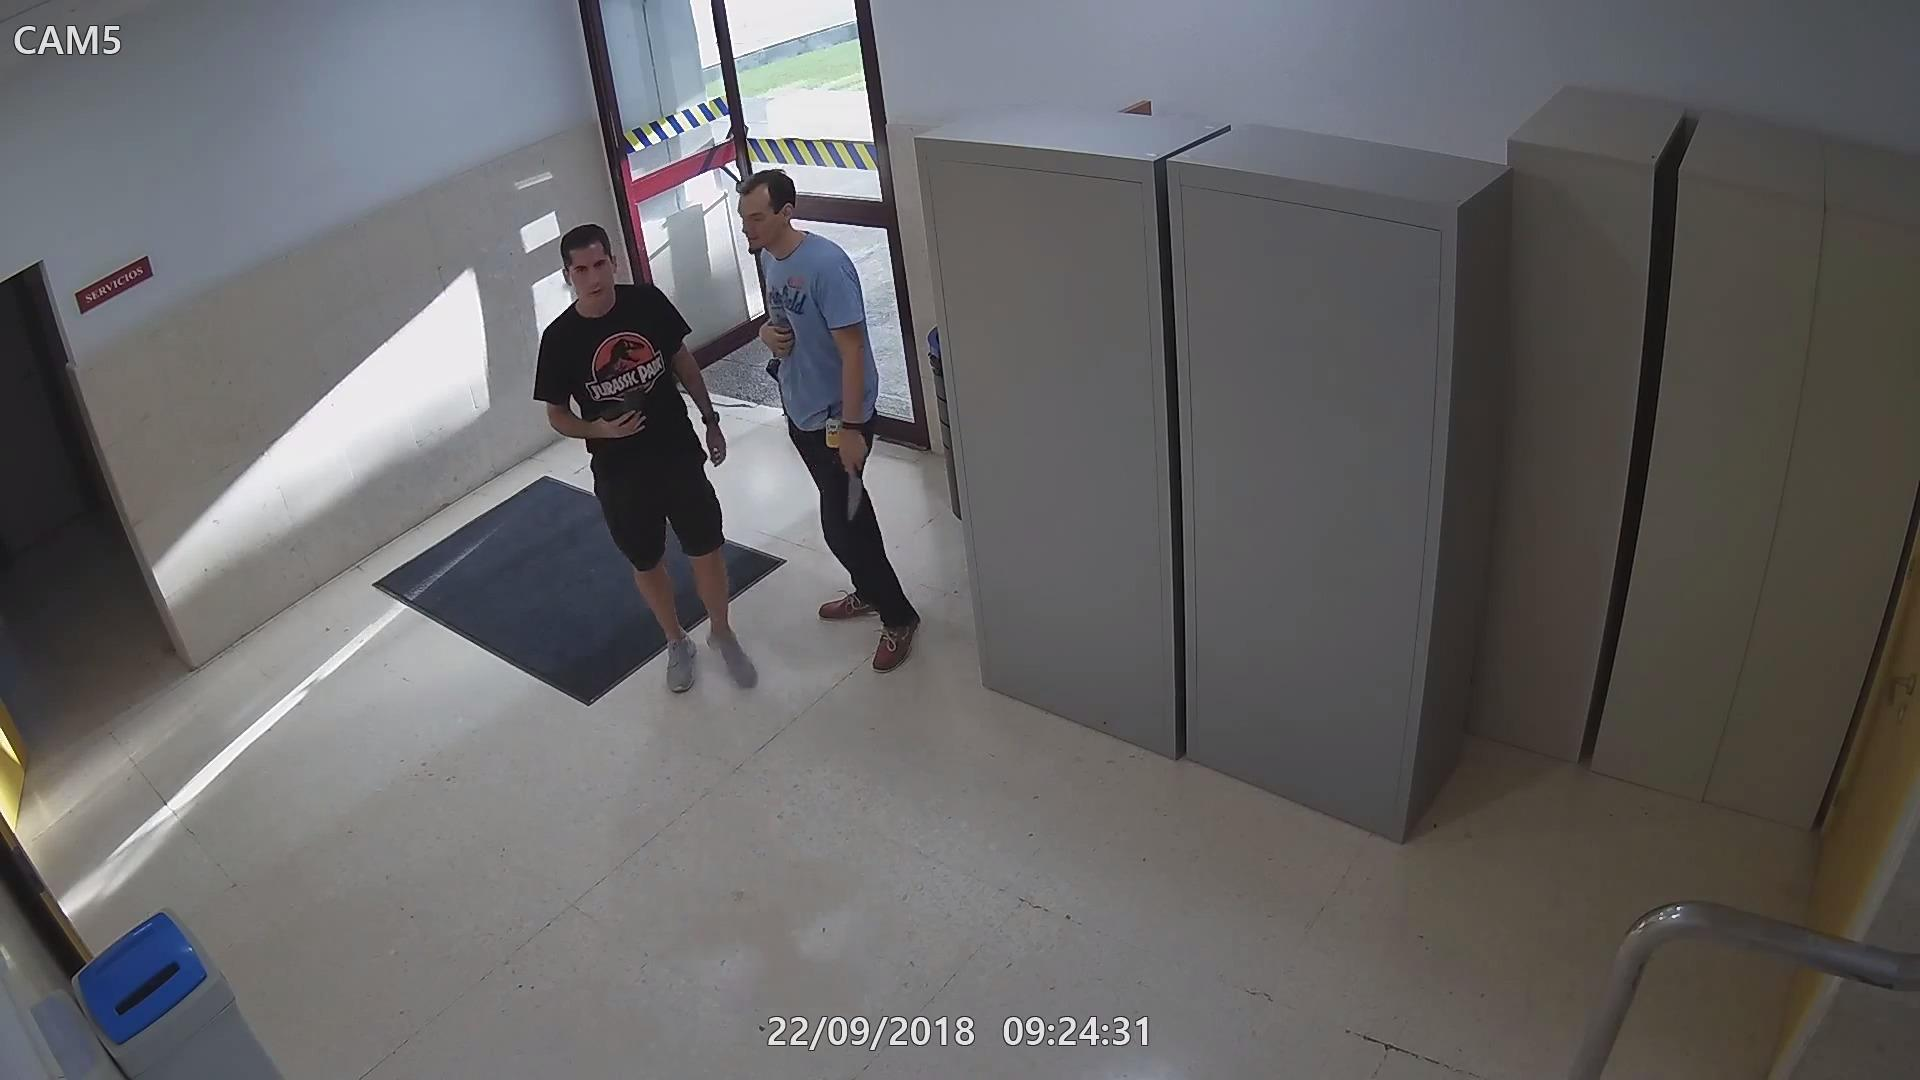Handgun: (591, 388, 657, 447), (756, 348, 782, 389)
